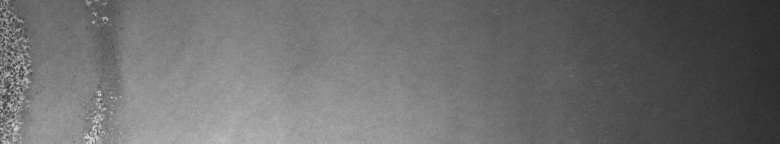hc: (4, 4, 122, 136)
